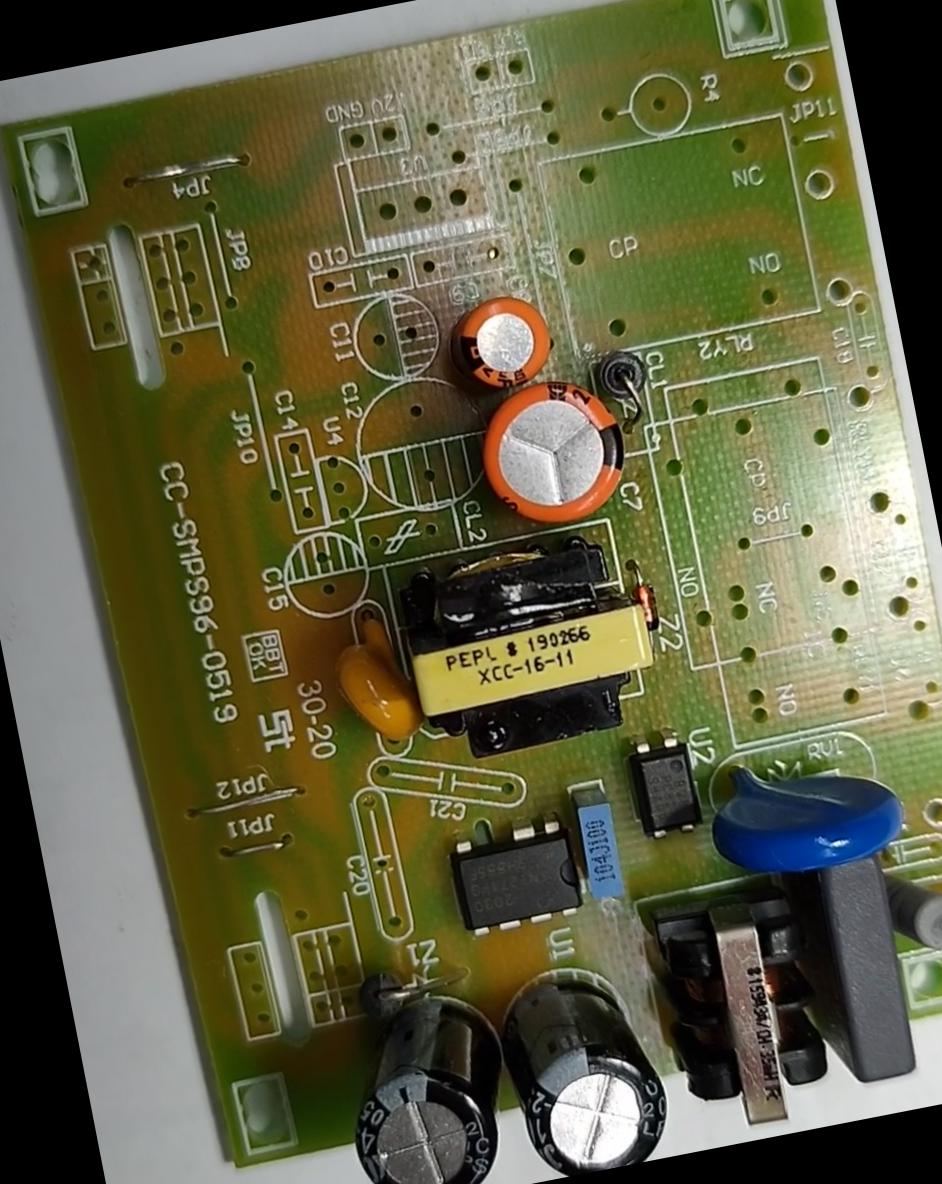Cap1: (470, 364, 650, 550)
Cap2: (447, 286, 564, 399)
Cap3: (492, 949, 682, 1182)
Cap4: (329, 987, 521, 1183)
MOSFET: (447, 814, 590, 943)
Mov: (702, 730, 914, 889)
Resistor: (882, 855, 941, 977)
Transformer: (383, 519, 664, 770), (638, 867, 856, 1146)
